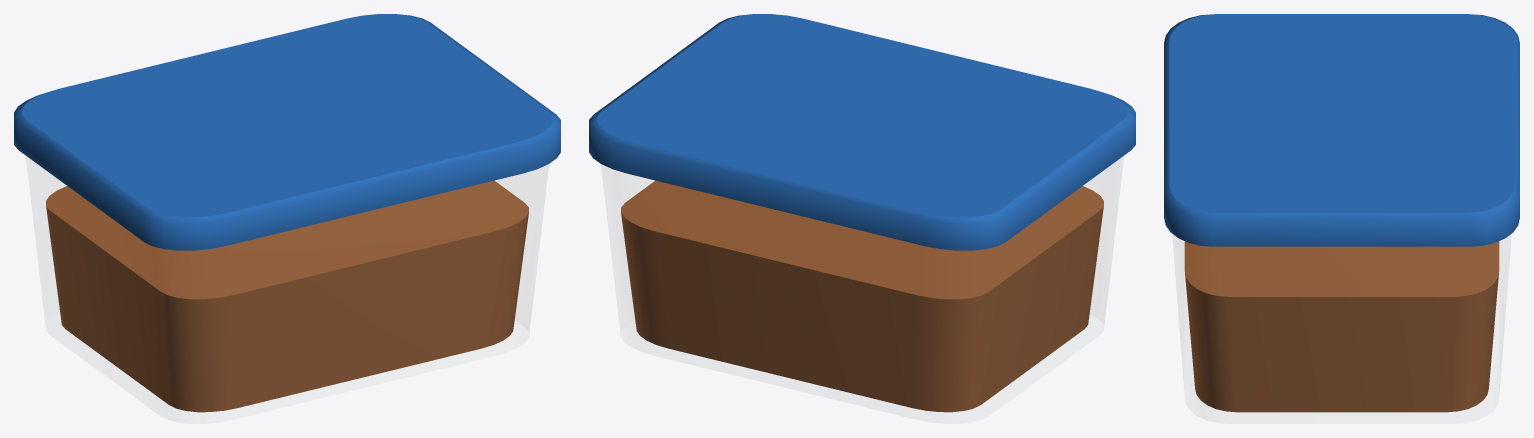
File: item-banchan_tub_1l.glb
3 renders of one model, left to right at view 1: azimuth 30°, elevation 25°; view 2: azimuth 150°, elevation 25°; view 3: azimuth 270°, elevation 25°, orthographic.
Parts seen in each view (by area): view 1: lid, contents, body; view 2: lid, contents, body; view 3: lid, contents, body.
Part boxes in pixels (x1,y1,x2,y2): lid: (14, 14, 560, 250); contents: (46, 180, 528, 412); body: (26, 156, 548, 423); lid: (589, 14, 1135, 250); contents: (621, 180, 1103, 412); body: (601, 156, 1123, 423); lid: (1164, 14, 1519, 246); contents: (1184, 241, 1499, 412); body: (1173, 235, 1510, 423).
Bounding box in the file's own units: 0.15 × 0.075 × 0.11.
